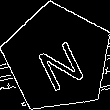N_NW: (28, 27, 87, 90)
